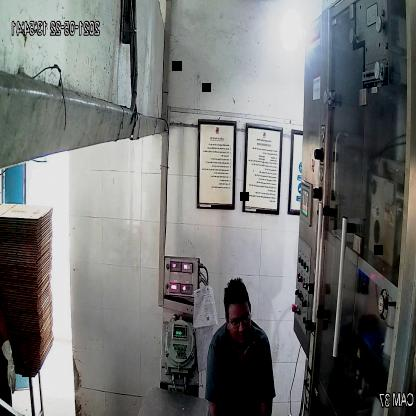goggles: (224, 305, 253, 333)
